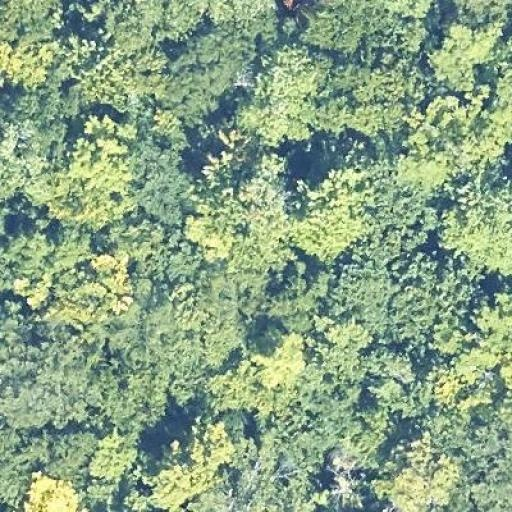tree-top: (336, 233, 439, 351), (190, 156, 285, 277), (0, 340, 116, 430), (0, 210, 95, 310), (146, 417, 244, 512), (434, 168, 511, 279), (327, 58, 423, 146), (240, 41, 317, 148), (278, 172, 372, 258), (415, 92, 507, 176), (365, 436, 467, 510), (270, 392, 373, 464), (153, 33, 242, 115), (0, 92, 72, 187), (68, 110, 143, 193), (109, 284, 185, 360), (425, 22, 502, 94), (130, 143, 189, 230), (430, 401, 504, 470), (110, 224, 206, 275), (244, 324, 310, 395), (77, 38, 149, 102), (252, 274, 330, 332), (250, 322, 312, 390), (82, 421, 147, 484), (117, 359, 176, 428), (303, 0, 372, 57), (191, 0, 280, 42), (16, 461, 84, 511), (0, 40, 59, 92), (0, 0, 64, 46), (471, 299, 512, 354)
